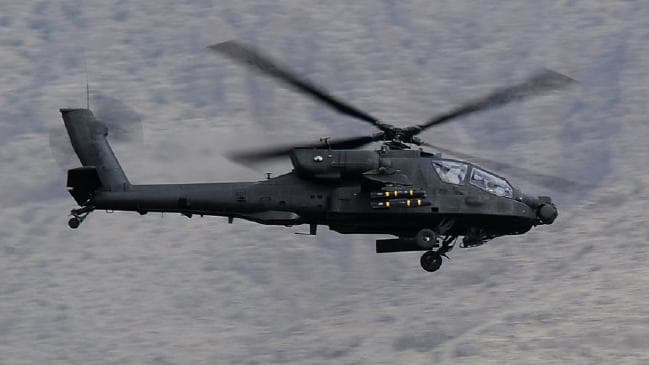MilitaryHelicopter: (61, 94, 573, 286)
